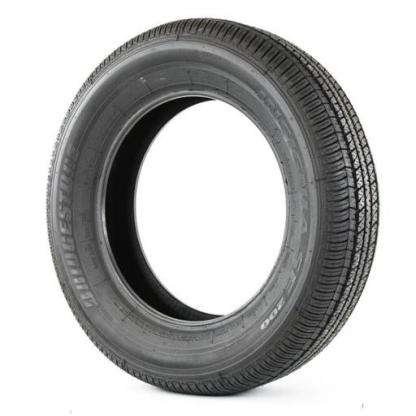Tire: (45, 17, 381, 398)
